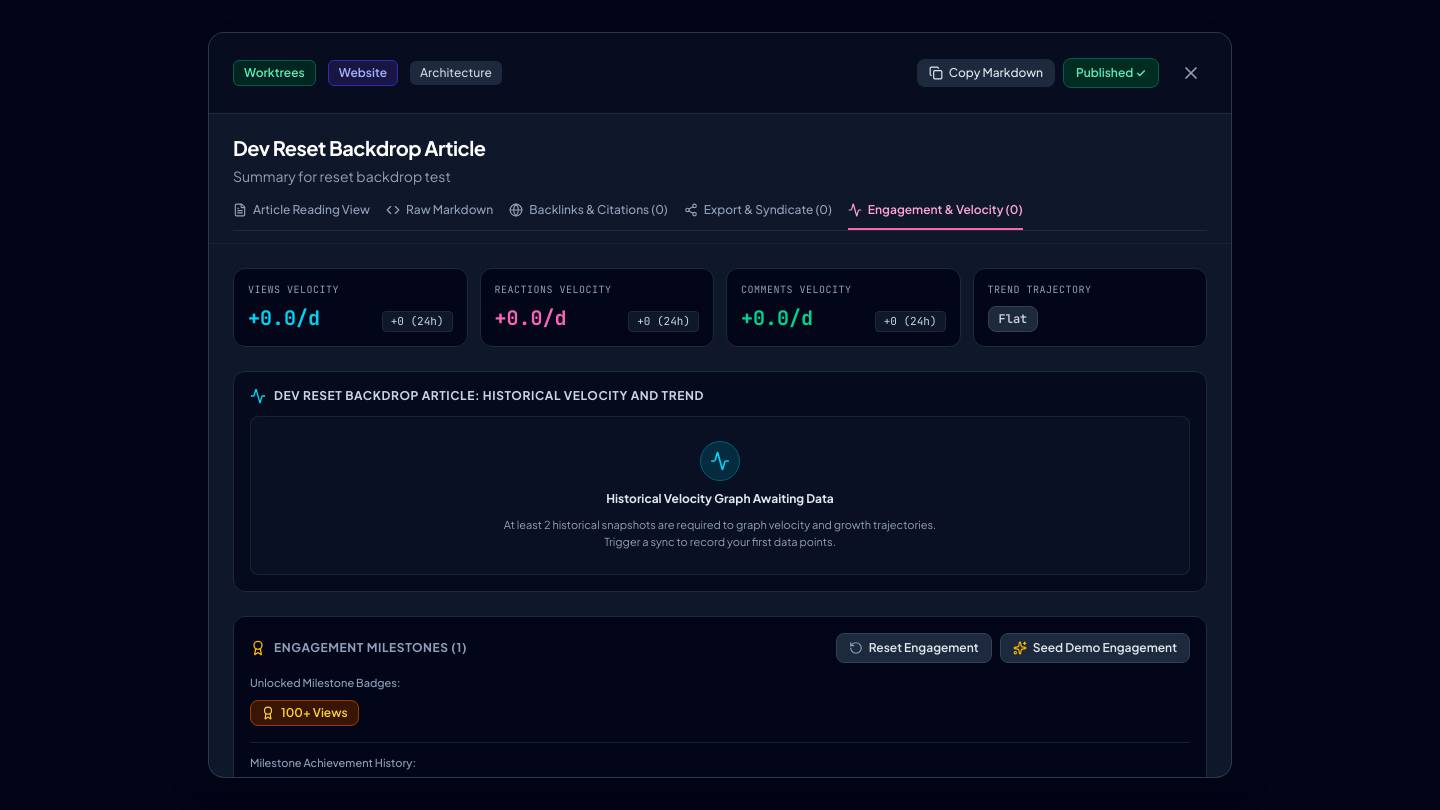
ArticleModal Component - Dev Seed Engagement › dismisses the reset confirmation dialog when clicking the backdrop overlay
The image size is (1440, 810).
Click the button "Reset Engagement": (914, 648) top-left (836, 633), bottom-right (992, 663)
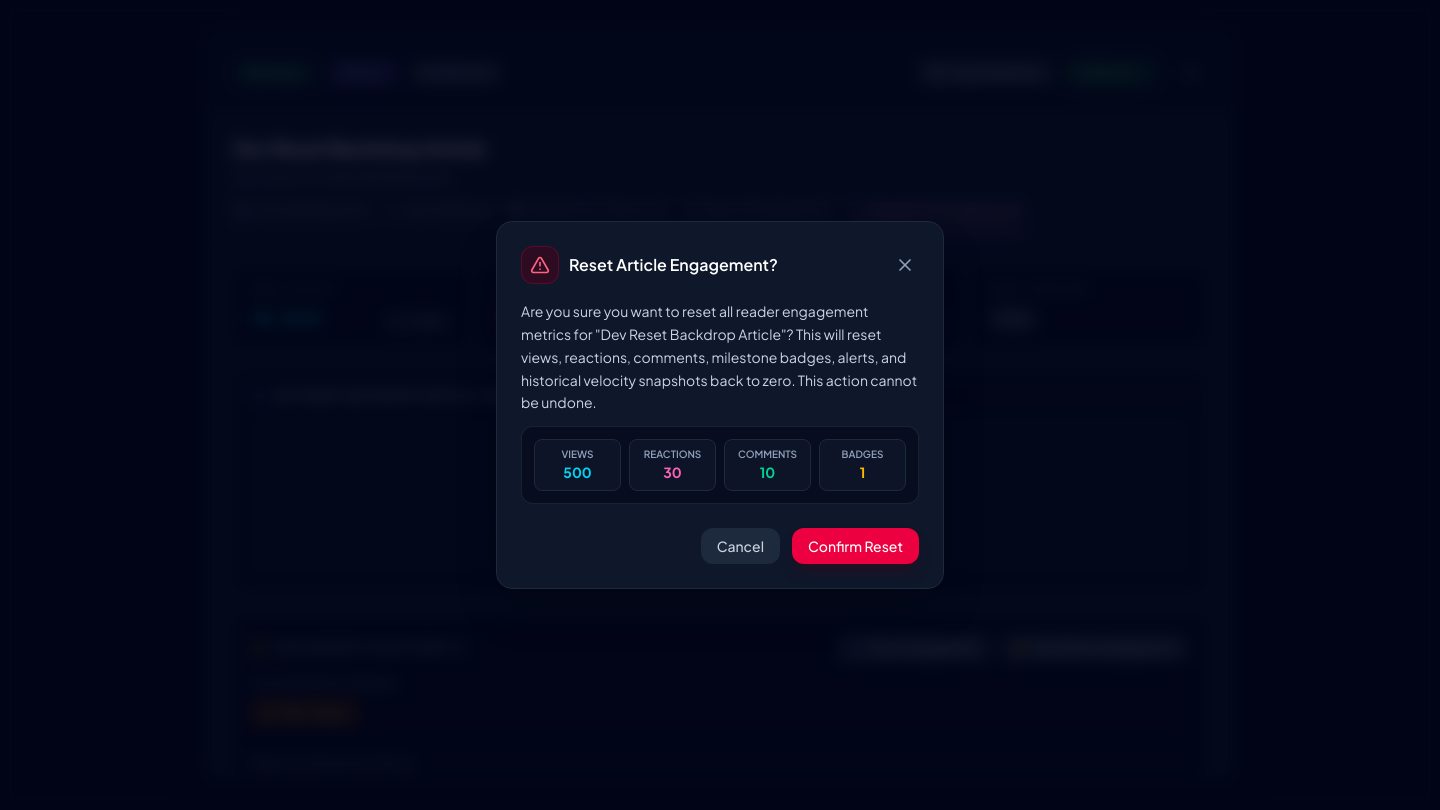
Check: the text "Reset Article Engagement?" is shown, box top-left (569, 254), bottom-right (778, 278)
Check: the dialog is shown, box top-left (496, 222), bottom-right (944, 589)
Click the element that starts with "Reset Article Engagement?": (86, 405) top-left (0, 0), bottom-right (1439, 809)
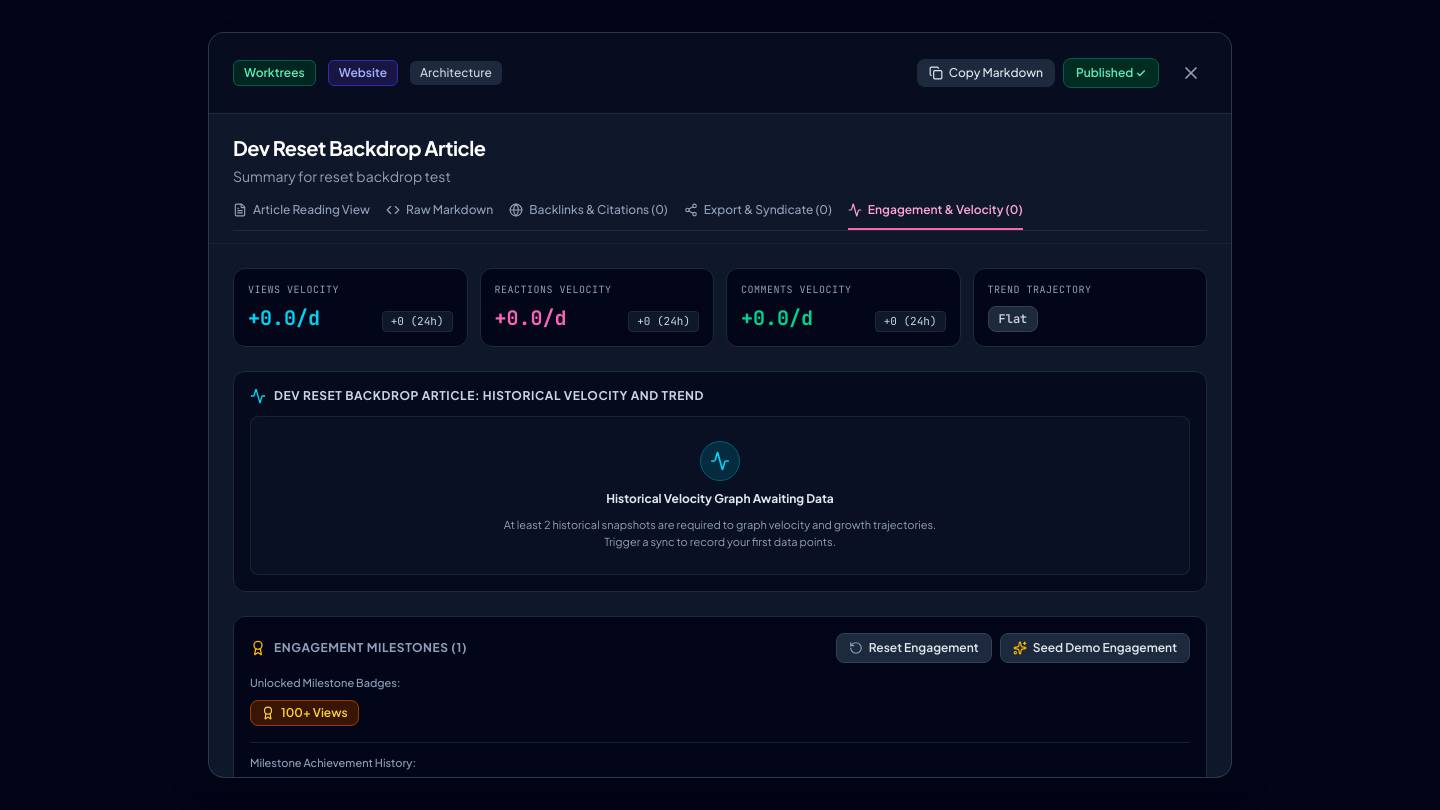
Check: the text "Reset Article Engagement?" is gone
